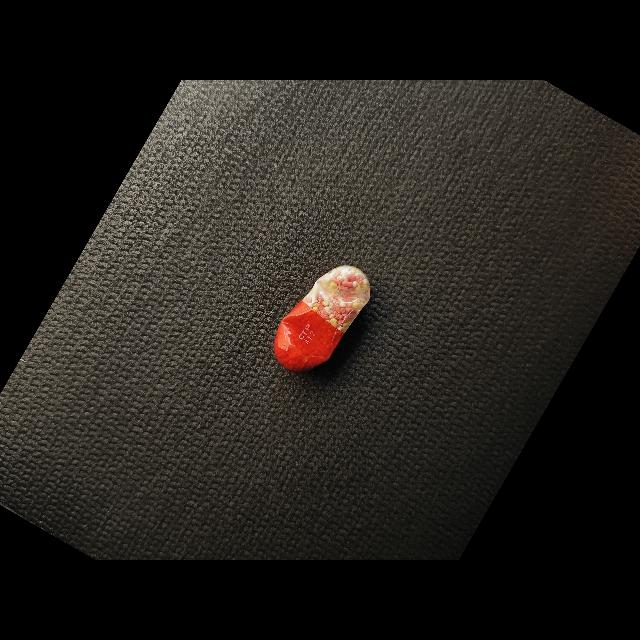Defective Capsule: (274, 265, 371, 372)
